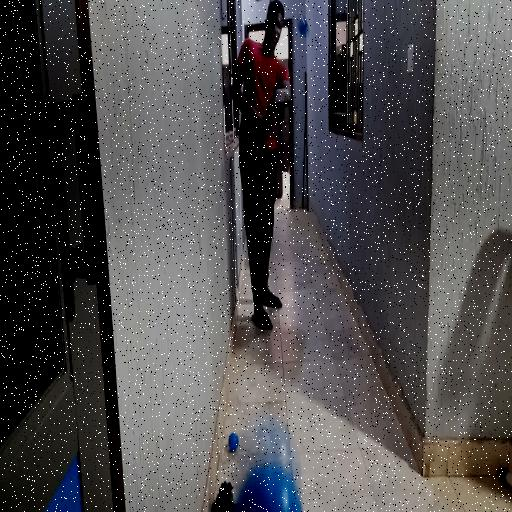plastic-ball: (238, 417, 304, 512)
